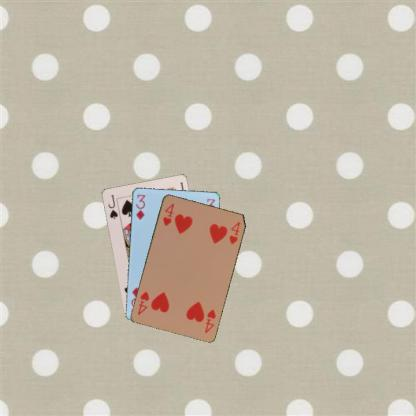3d: (134, 192, 146, 221)
4h: (202, 307, 217, 334), (160, 201, 175, 227)
Js: (105, 192, 119, 220)
